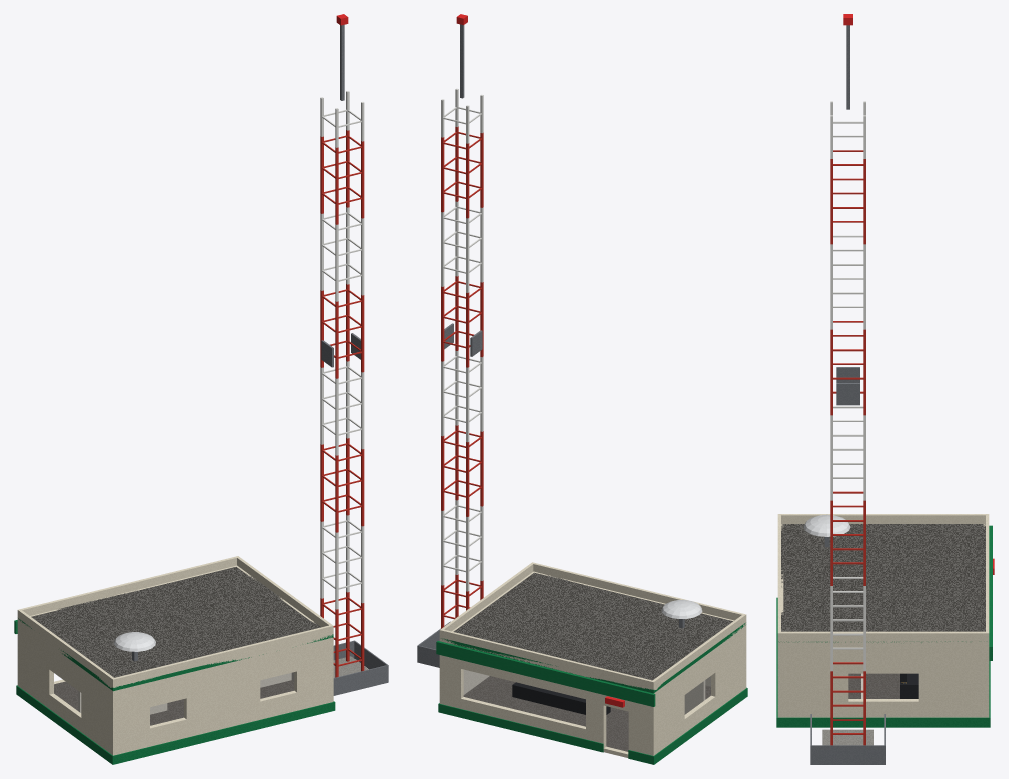
Rendered from radio_station_popolko.glb.
3 views of the same model, side by side, from view 1: azimuth 30°, elevation 25°; view 2: azimuth 150°, elevation 25°; view 3: azimuth 270°, elevation 25° (orthographic). The views are drawn at different scales.
Parts seen in each view (by area): view 1: radio_station_popolko; view 2: radio_station_popolko; view 3: radio_station_popolko.
Boxes of the visible parts, x1,y1,x2,y2 form: radio_station_popolko: [14, 14, 388, 764]; radio_station_popolko: [417, 14, 747, 764]; radio_station_popolko: [776, 14, 994, 764].
Size of the model in its own units: 15.9 by 34.35 by 9.27.
Materials: 13 (13 with a texture image).
